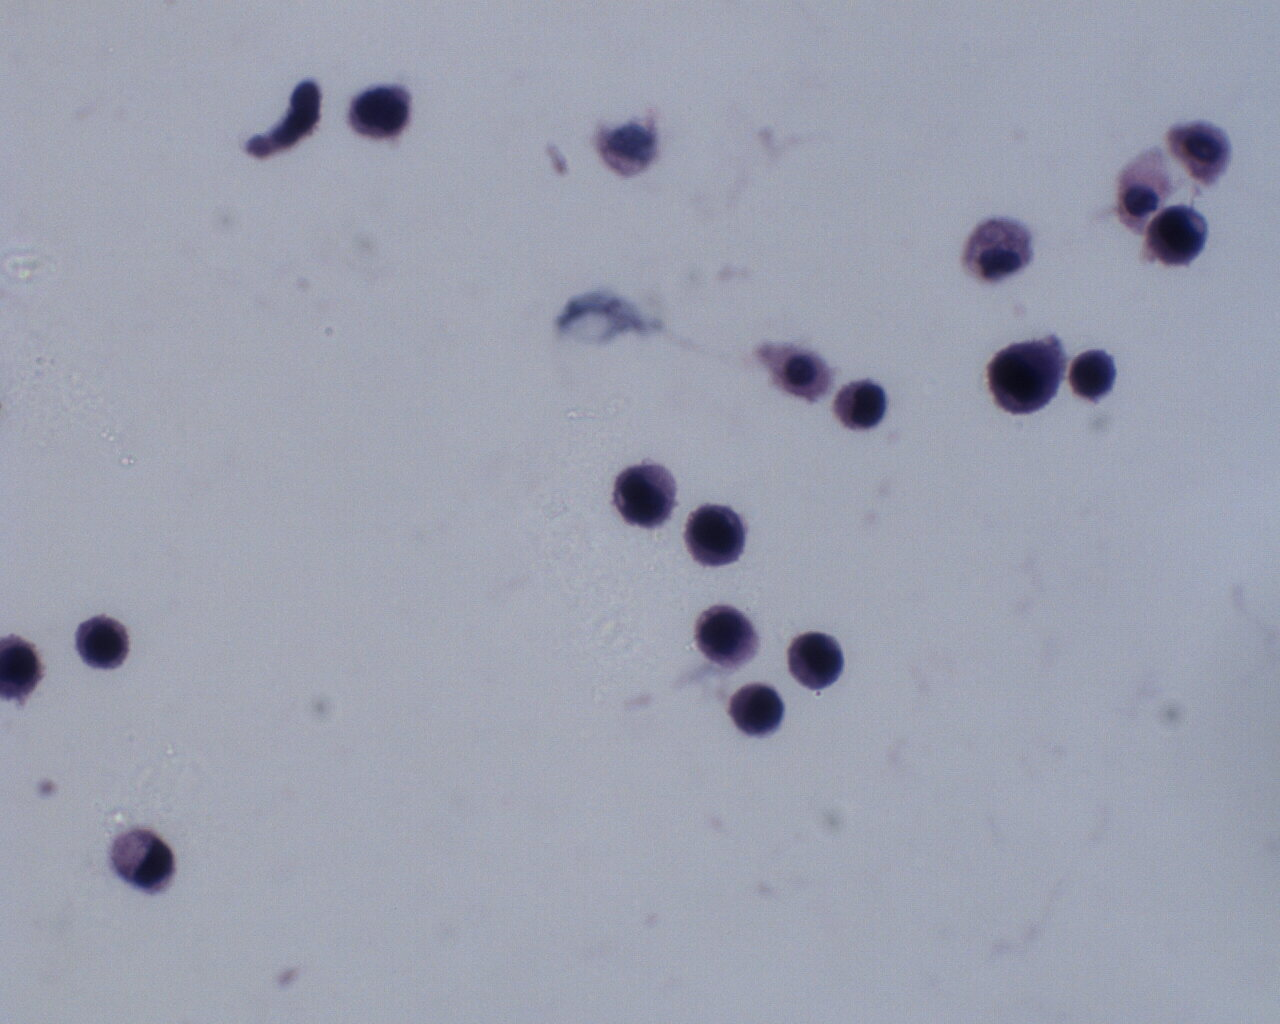ab: (987, 334, 1065, 422), (610, 459, 678, 528), (695, 605, 763, 670), (684, 502, 747, 571), (1146, 203, 1211, 269), (347, 83, 417, 143), (785, 629, 845, 693), (725, 679, 784, 740), (73, 613, 131, 672), (833, 377, 889, 435), (1071, 347, 1123, 405)
